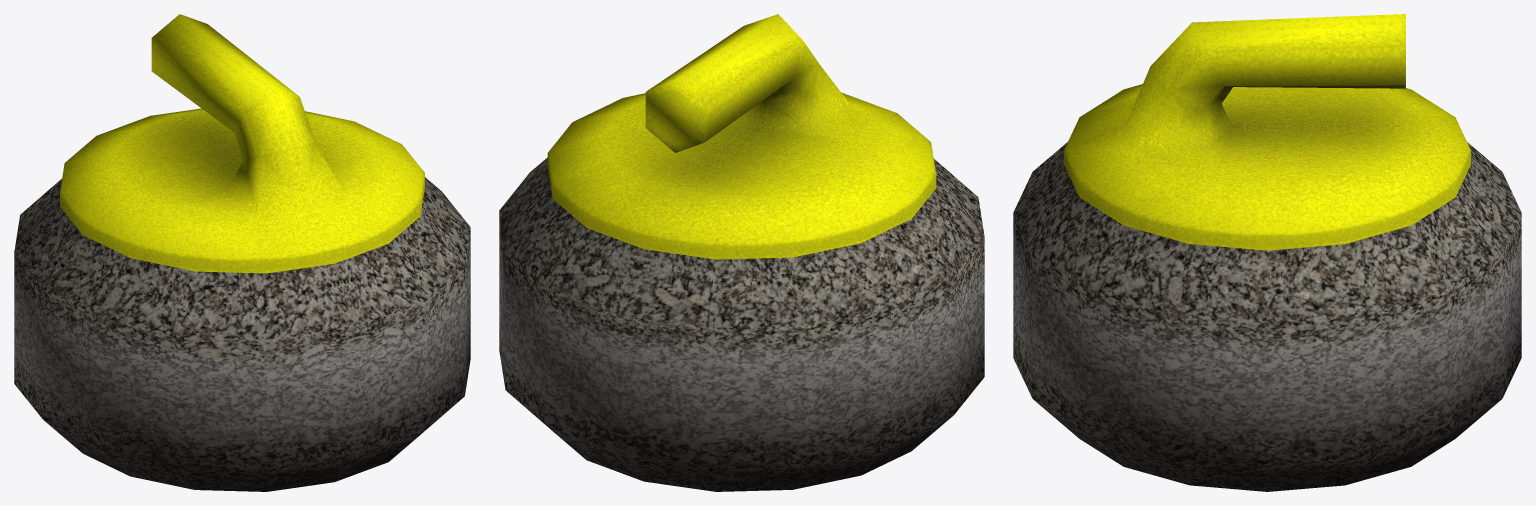
File: StoneYellow.fbx
3 renders of one model, left to right at view 1: azimuth 30°, elevation 25°; view 2: azimuth 150°, elevation 25°; view 3: azimuth 270°, elevation 25°, orthographic. The views are drawn at different scales.
Parts seen in each view (by area): view 1: Stone_Yellow_001; view 2: Stone_Yellow_001; view 3: Stone_Yellow_001.
Part boxes in pixels (box(x1,y1,x2,y2)): Stone_Yellow_001: box(14, 14, 470, 491); Stone_Yellow_001: box(499, 14, 984, 491); Stone_Yellow_001: box(1013, 14, 1521, 491).
Bounding box in the file's own units: 0.955 × 0.8122 × 0.955.
